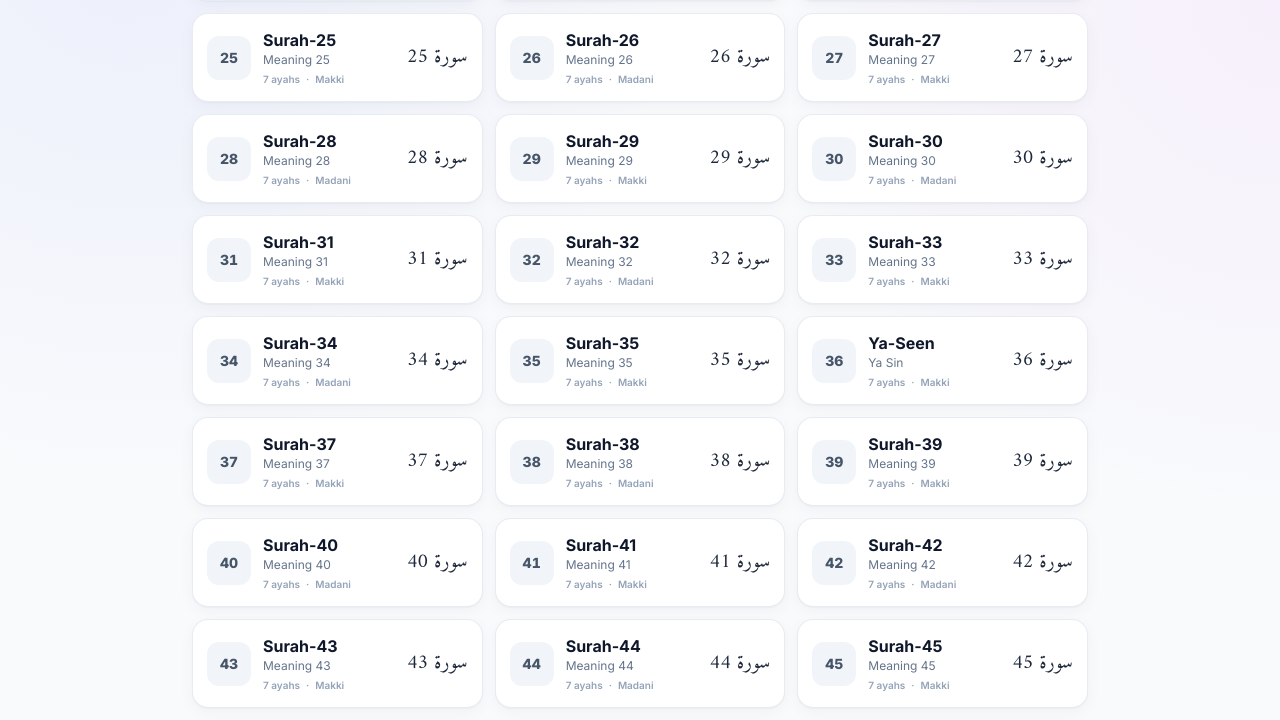
Scenario: previous / next surah buttons and automatic next when a surah ends
(page scrolled)
Step 1. Click the button "36 Ya-Seen Ya Sin 7 ayahs · Makki سورة 36" → (834, 360), box [797,316,1088,405]
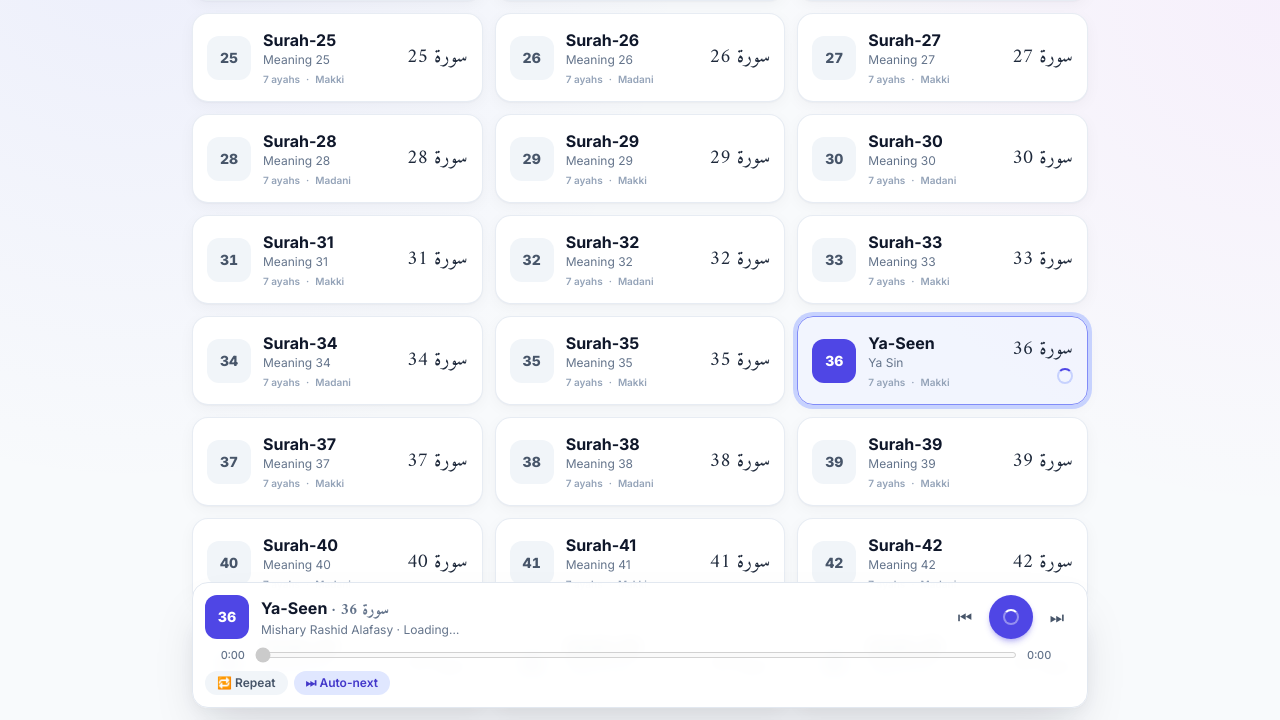
Step 2. Click the button named "next surah" → (1057, 616), box [1039,598,1075,634]
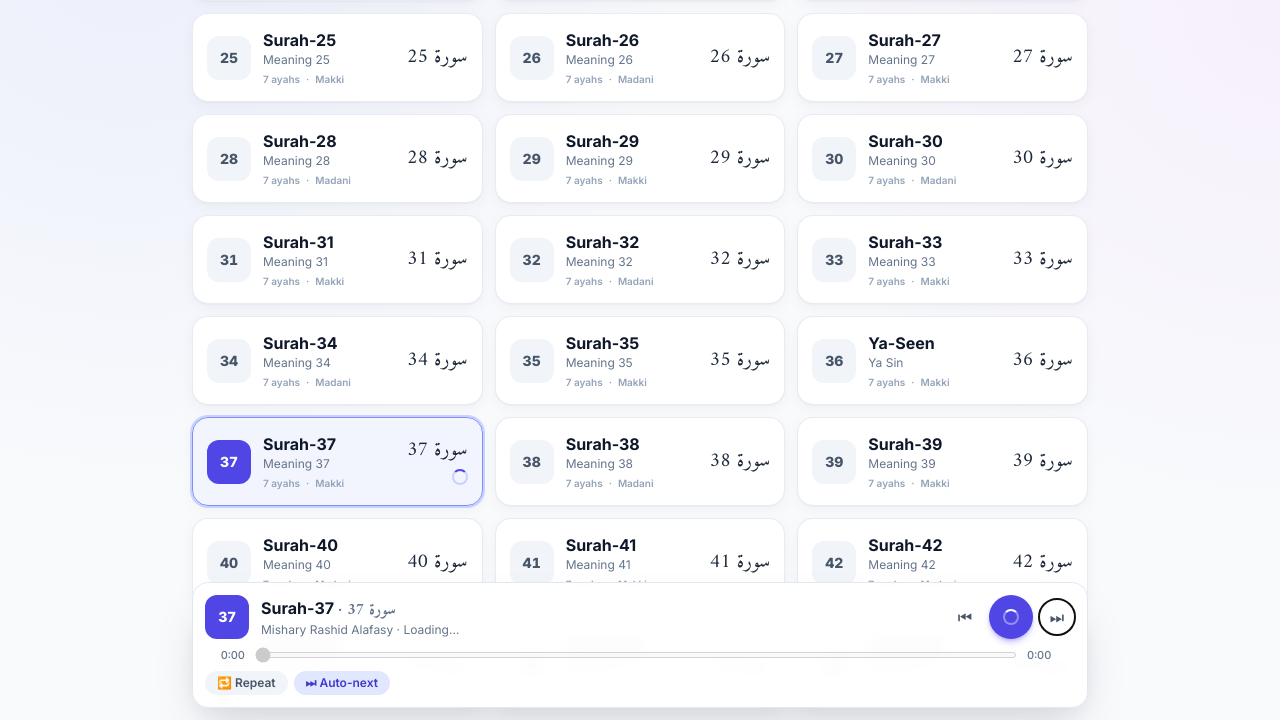
Step 3. Click the button named "previous surah" → (965, 616), box [947,598,983,634]
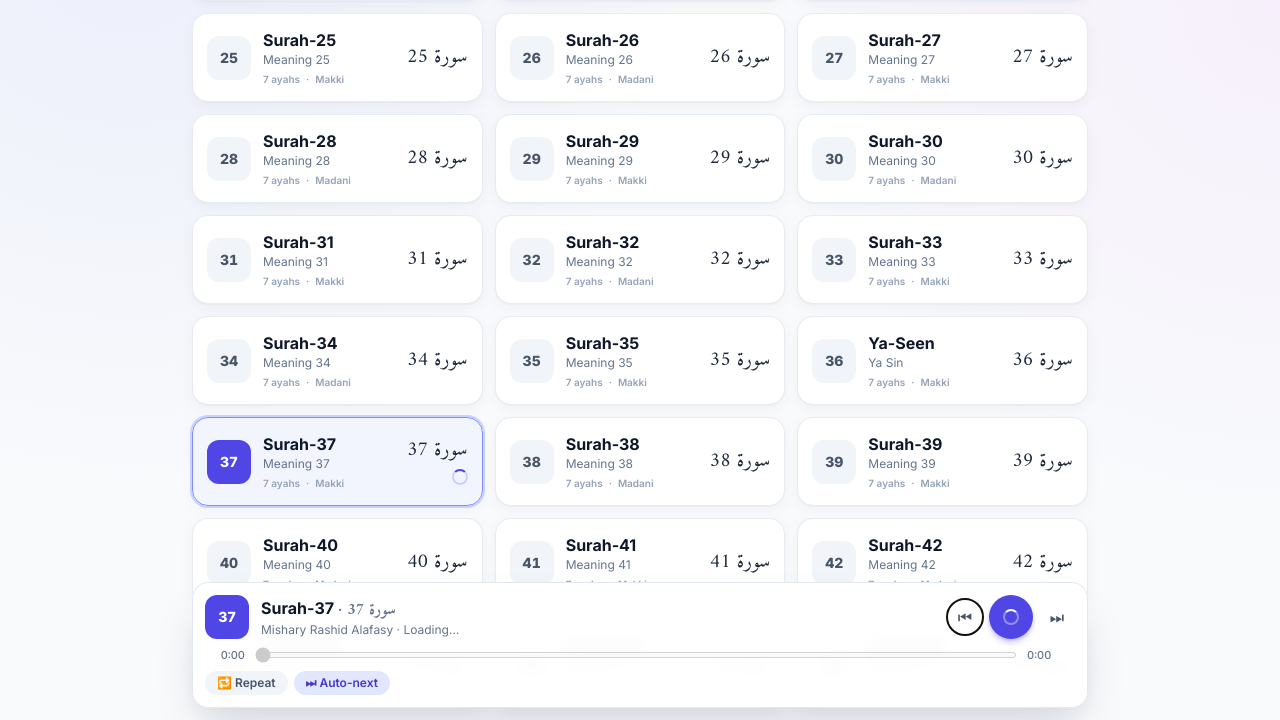
Step 4. Click the button with aria-label "play the next surah automatically" → (342, 683), box [294,671,390,695]
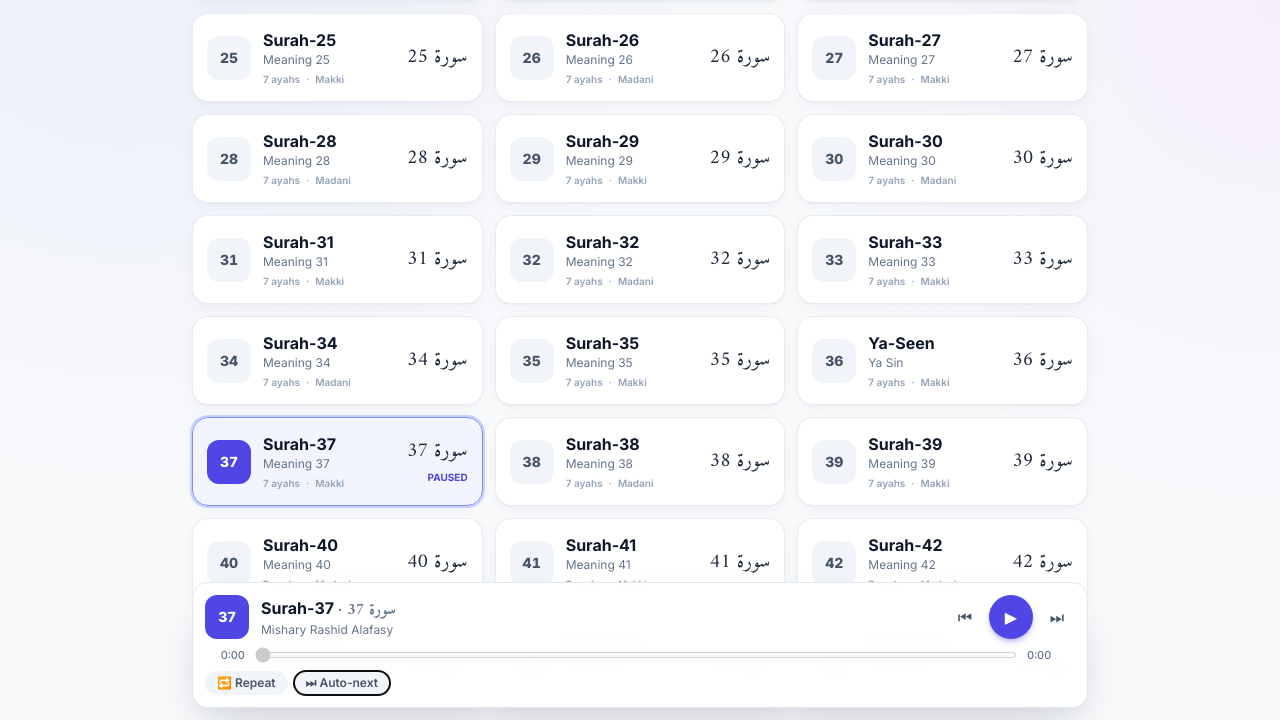
Check: the button named "Play" is shown, box [989,594,1033,638]
